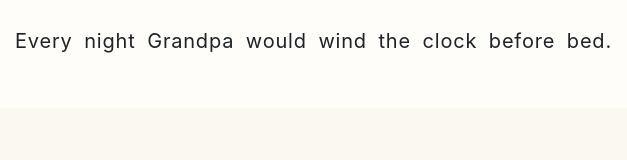
Test: Reader phonetic map › on_demand: renders <ruby>/<rt> hidden, then reveals on click
The image size is (627, 160).
Expected: the element showing "Grandpa" is shown, x1=147 y1=29 x2=234 y2=53
What coordinates should you click on to do the following:
click the button "Grandpa"
I would click on:
 (191, 40)
Its box is x1=146 y1=18 x2=235 y2=62.
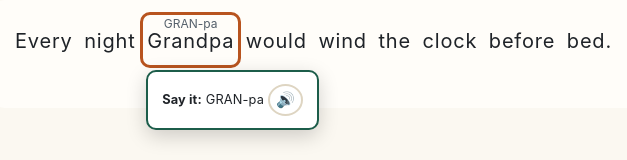
Expected: the tooltip shows "GRAN-pa", x1=206 y1=92 x2=264 y2=107
